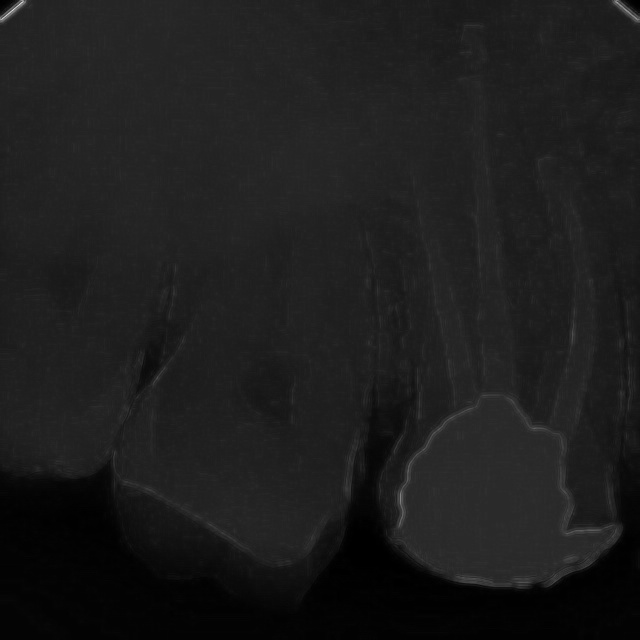Class 0- No endodontic treatment: (367, 18, 640, 606)
cavity: (105, 98, 400, 628)
